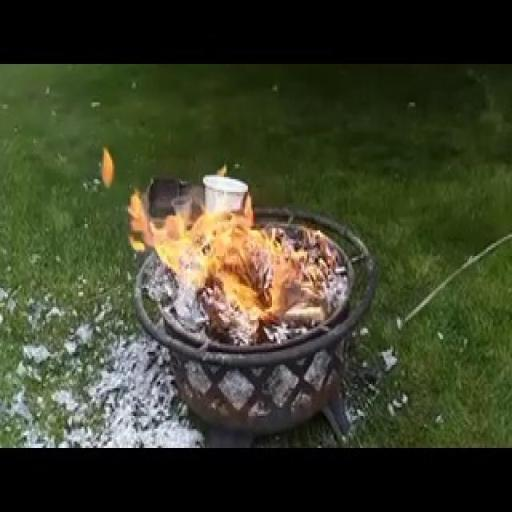smoke: (132, 100, 335, 338)
